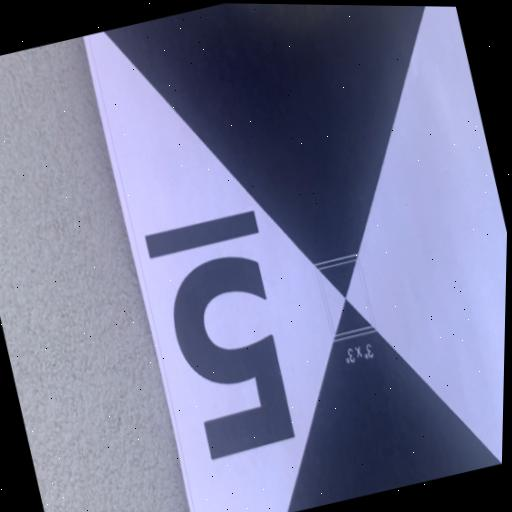target5: (84, 3, 507, 512)
